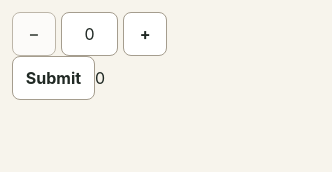
Test: supports temporary empty input, rejects fractions and over-limit input, and increments/decrements exactly one
The width and height of the screenshot is (332, 172).
Later steps or results of the test are not shown.
Check: the field named "Rice" holds "0", box x1=61 y1=12 x2=118 y2=56
Step 1. Click the button named "Increase Rice" → x=145, y=34, box x1=123 y1=12 x2=167 y2=56
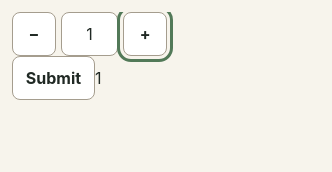
Check: the field named "Rice" holds "1", box x1=61 y1=12 x2=118 y2=56
Step 2. Click the button named "Decrease Rice" → x=34, y=34, box x1=12 y1=12 x2=56 y2=56
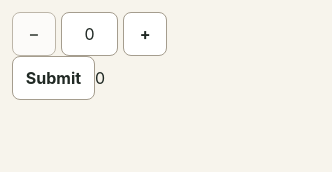
Check: the field named "Rice" holds "0"
Step 3. Clear the field named "Rice" → x=90, y=34, box x1=61 y1=12 x2=118 y2=56
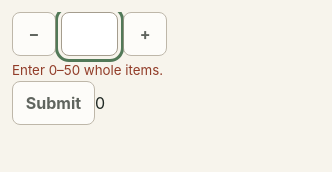
Check: the button "Submit" is disabled, box x1=12 y1=81 x2=95 y2=125
Step 4. Type "51" into the field named "Rice" → x=90, y=34, box x1=61 y1=12 x2=118 y2=56
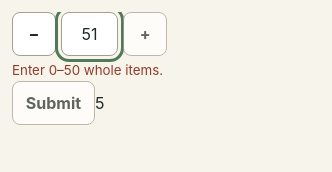
Check: the field named "Rice" is marked as invalid
Step 5. Replace the text in the field named "Rice" with "1.5" → x=90, y=34, box x1=61 y1=12 x2=118 y2=56
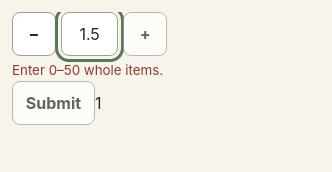
Check: the field named "Rice" is marked as invalid, box x1=61 y1=12 x2=118 y2=56
